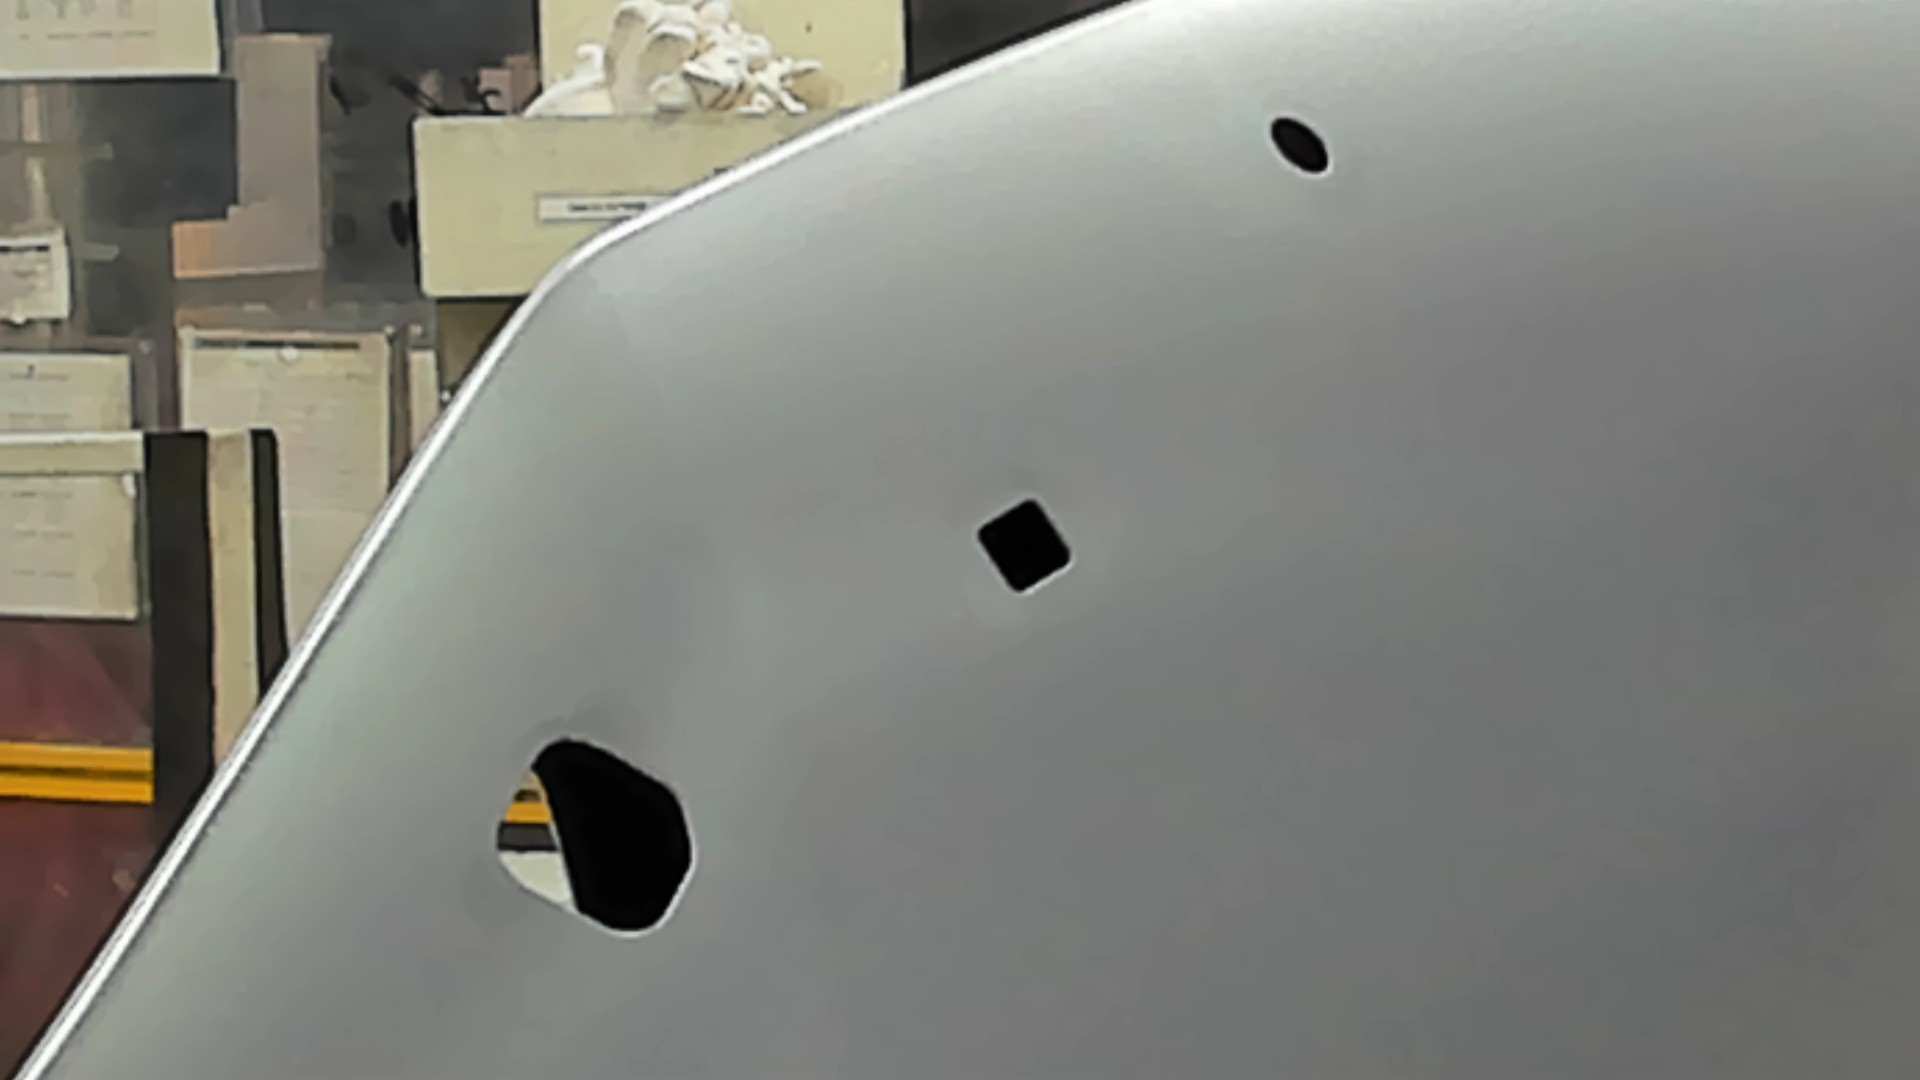chico: (1265, 109, 1336, 179)
grande: (489, 729, 702, 944)
mediano: (968, 491, 1083, 604)
